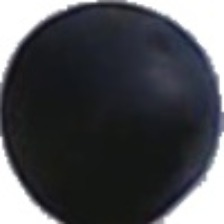grapes: (42, 49, 181, 211)
